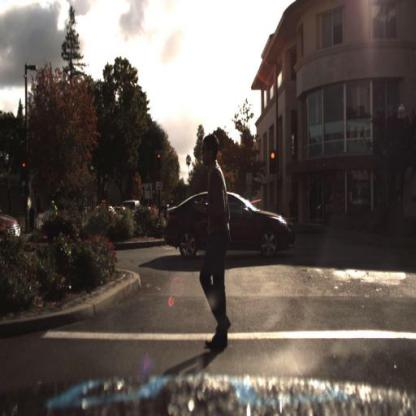biker: (48, 200, 61, 233)
car: (167, 193, 298, 256), (1, 197, 27, 254), (161, 205, 171, 220)
pedestrian: (196, 133, 233, 349), (290, 196, 297, 226)
trafficLight: (21, 157, 28, 177)
trafficLight-Red: (155, 151, 163, 177), (269, 150, 277, 176), (156, 145, 163, 166)
